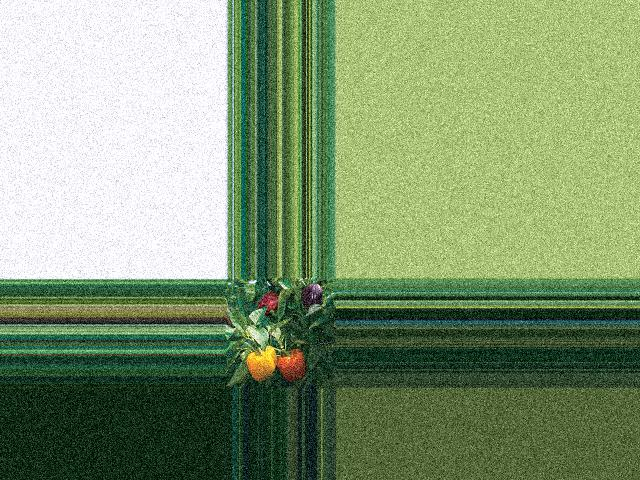bell_pepper: (246, 344, 284, 380)
